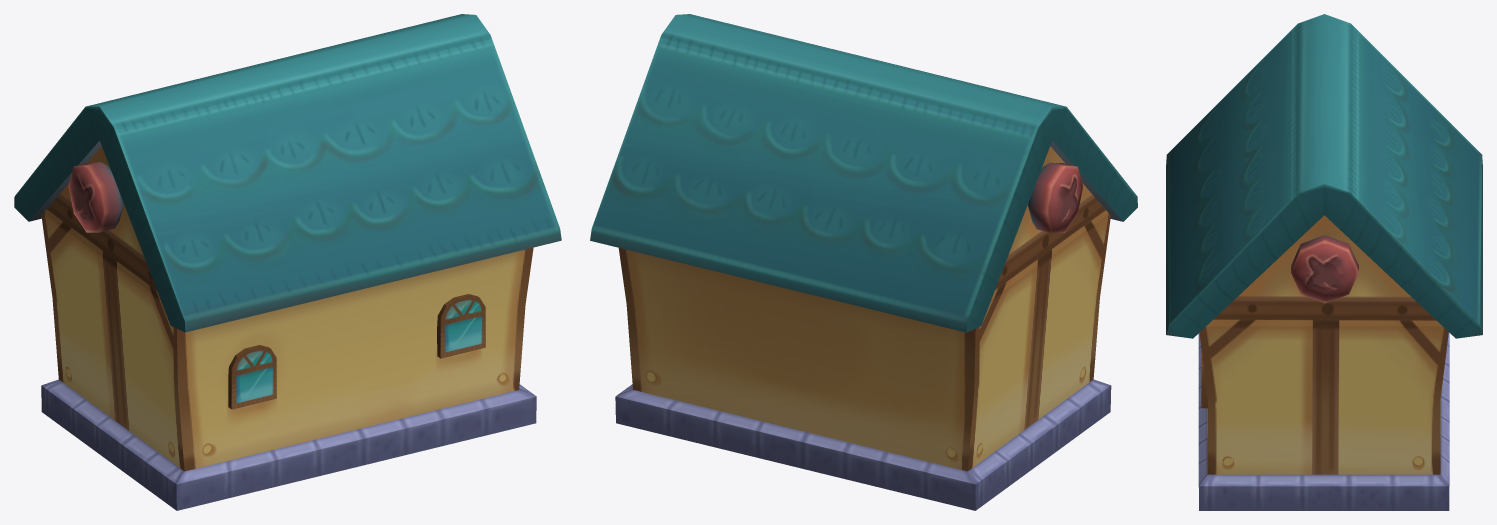
File: house_doorless_b.FBX
3 views of the same model, side by side, from view 1: azimuth 30°, elevation 25°; view 2: azimuth 150°, elevation 25°; view 3: azimuth 270°, elevation 25° (orthographic). The views are drawn at different scales.
Parts seen in each view (by area): view 1: Box082; view 2: Box082; view 3: Box082.
Part boxes in pixels (x1,y1,x2,y2): Box082: [14, 14, 561, 510]; Box082: [590, 14, 1137, 510]; Box082: [1166, 14, 1482, 510].
Size of the model in its own units: 29.71 by 24.73 by 21.49.
